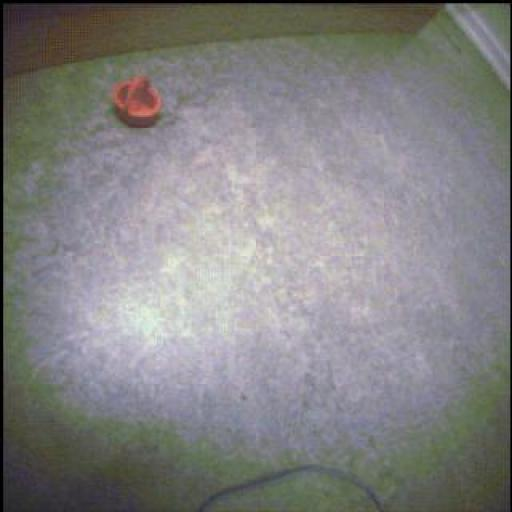Bucket: (113, 78, 163, 129)
